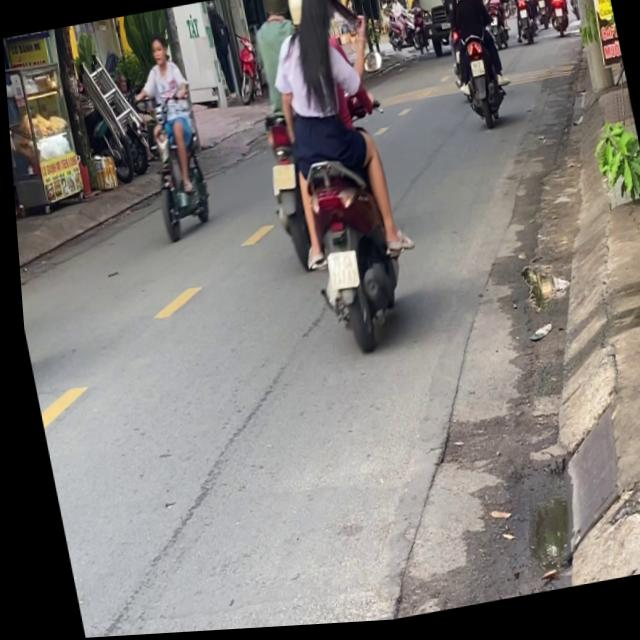helmet: (282, 0, 309, 31), (258, 0, 287, 23)
licenseplate: (247, 0, 424, 364), (230, 0, 332, 270), (121, 30, 216, 244), (429, 0, 510, 136)
motorcyclist: (284, 0, 348, 64), (146, 35, 166, 68)
nohelmet: (319, 251, 355, 293), (265, 164, 292, 193), (466, 64, 482, 82)
